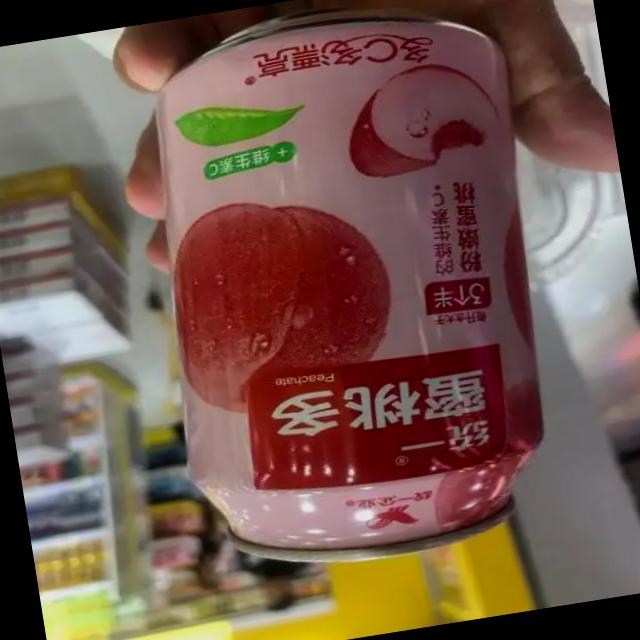can: (115, 0, 589, 590)
